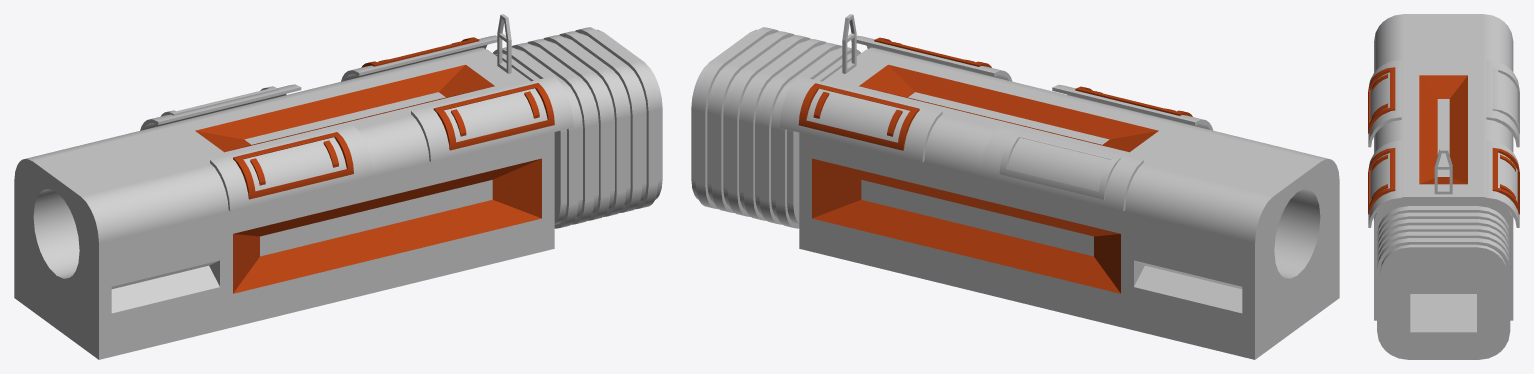
Rendered from Grenade launcher.obj.
3 renders of one model, left to right at view 1: azimuth 30°, elevation 25°; view 2: azimuth 150°, elevation 25°; view 3: azimuth 270°, elevation 25°, orthographic. The views are drawn at different scales.
Visible parts, largest first — view 1: Backside1, Bodygray1, Bodyorange1, Barrellightblack1, Barrelveryblack1, Pannelrightgray1, Pannelbottomrightgray1, Pannelrightorange1, Pannelbottomrightorange1, Cooldowndisplayanchor1, Pannelleftgray1, Part2 (+3 smaller); view 2: Bodygray1, Backside1, Bodyorange1, Barrellightblack1, Cooldowndisplayanchor1, Barrelveryblack1, Pannelleftgray1, Pannelleftorange1, Cooldowndisplaybox1, Pannelbottomrightgray1, Pannelrightgray1, Pannelrightorange1 (+1 smaller); view 3: Barrelveryblack1, Bodygray1, Backside1, Barrellightblack1, Bodyorange1, Cooldowndisplayanchor1, Pannelleftgray1, Pannelbottomrightgray1, Pannelrightgray1, Pannelrightorange1, Pannelbottomrightorange1, Pannelleftorange1 (+4 smaller).
Boxes of the visible parts, x1,y1,x2,y2 form: Backside1: (14, 129, 219, 359); Bodygray1: (145, 47, 554, 330); Bodyorange1: (195, 64, 541, 293); Barrellightblack1: (493, 27, 658, 228); Barrelveryblack1: (495, 29, 662, 224); Pannelrightgray1: (411, 76, 573, 161); Pannelbottomrightgray1: (210, 125, 372, 211); Pannelrightorange1: (433, 83, 554, 150); Pannelbottomrightorange1: (233, 132, 353, 199); Cooldowndisplayanchor1: (140, 84, 301, 130); Pannelleftgray1: (341, 35, 497, 81); Part2: (209, 234, 232, 296); Bodygray1: (799, 47, 1208, 330); Backside1: (1134, 129, 1339, 359); Bodyorange1: (812, 64, 1158, 293); Barrellightblack1: (695, 27, 860, 228); Cooldowndisplayanchor1: (980, 125, 1143, 211); Barrelveryblack1: (691, 29, 858, 224); Pannelleftgray1: (779, 76, 942, 162); Pannelleftorange1: (798, 83, 919, 150); Cooldowndisplaybox1: (999, 132, 1120, 199); Pannelbottomrightgray1: (1052, 84, 1213, 130); Pannelrightgray1: (851, 35, 1012, 81); Pannelrightorange1: (874, 37, 991, 67); Barrelveryblack1: (1380, 244, 1507, 359); Bodygray1: (1374, 62, 1513, 320); Backside1: (1374, 14, 1513, 72); Barrellightblack1: (1377, 206, 1510, 359); Bodyorange1: (1419, 75, 1467, 184); Cooldowndisplayanchor1: (1486, 60, 1519, 147); Pannelleftgray1: (1486, 140, 1519, 227); Pannelbottomrightgray1: (1368, 60, 1401, 147); Pannelrightgray1: (1368, 140, 1401, 227); Pannelrightorange1: (1368, 148, 1395, 214); Pannelbottomrightorange1: (1368, 67, 1395, 133); Pannelleftorange1: (1492, 148, 1519, 214).
Size of the model in its own units: 17.8 by 6.1 by 5.01.
